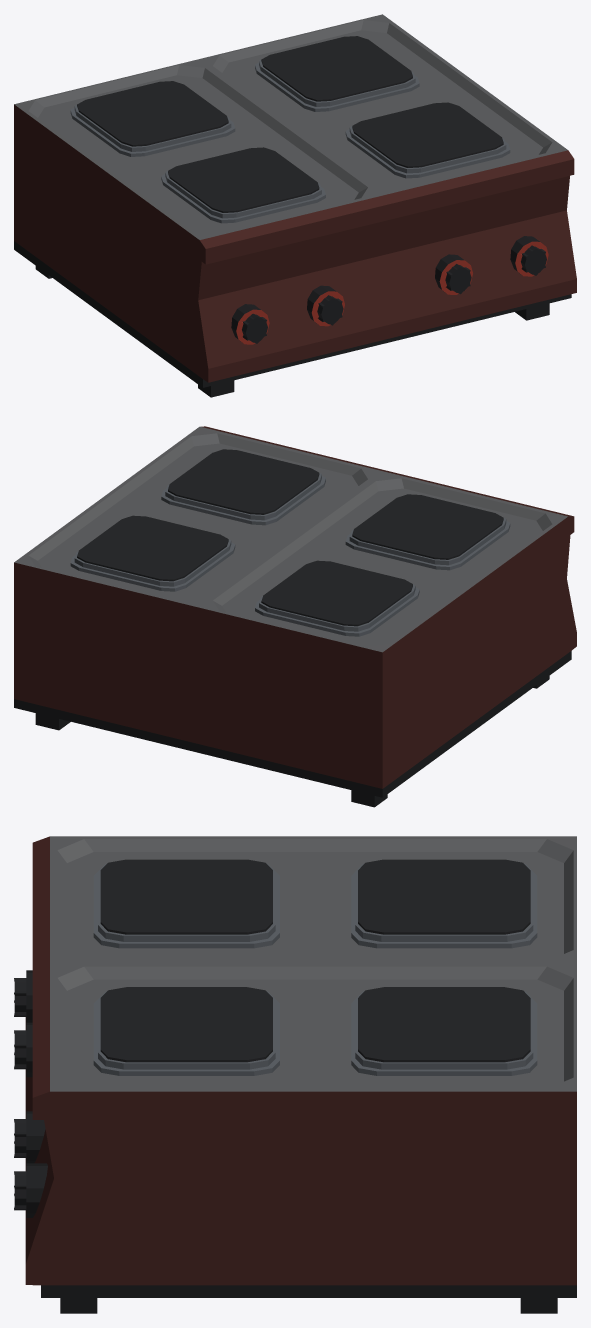
File: tabletopgasstovelarge_01_C.gltf
3 views of the same model, one above another, from view 1: azimuth 30°, elevation 25°; view 2: azimuth 150°, elevation 25°; view 3: azimuth 270°, elevation 25° (orthographic). The views are drawn at different scales.
Visible parts, largest first — view 1: tabletopgasstovelarge_01_C, Swithcfortabletopgasstovelarge_03_C, Swithcfortabletopgasstovelarge_04_C, Swithcfortabletopgasstovelarge_01_C, Swithcfortabletopgasstovelarge_02_C; view 2: tabletopgasstovelarge_01_C; view 3: tabletopgasstovelarge_01_C.
Boxes of the visible parts, x1,y1,x2,y2 form: tabletopgasstovelarge_01_C: (14,14,576,397); Swithcfortabletopgasstovelarge_03_C: (445,264,471,294); Swithcfortabletopgasstovelarge_04_C: (521,245,546,275); Swithcfortabletopgasstovelarge_01_C: (242,313,267,343); Swithcfortabletopgasstovelarge_02_C: (317,295,343,325); tabletopgasstovelarge_01_C: (14,426,576,807); tabletopgasstovelarge_01_C: (25,836,576,1313).
Bounding box in the file's own units: 0.5 × 0.216 × 0.4661.
Materials: 1 (1 with a texture image).
